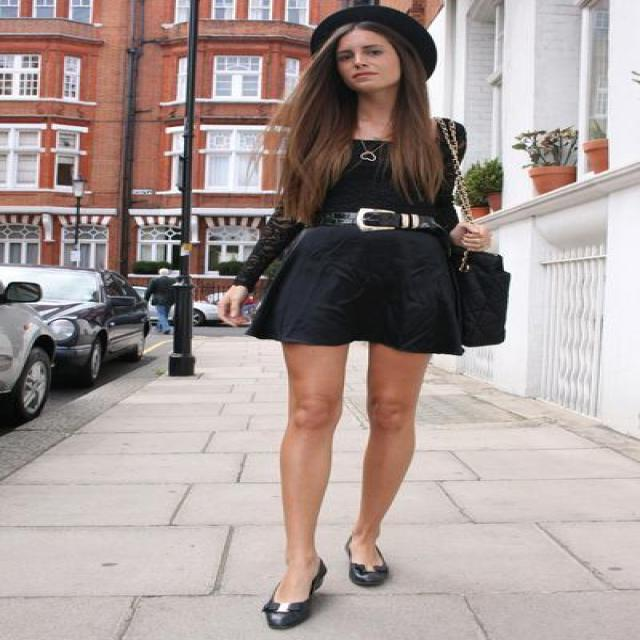bag: (456, 247, 509, 346)
dress: (216, 119, 474, 354)
hat: (310, 0, 436, 73)
shoe: (262, 559, 389, 629)
